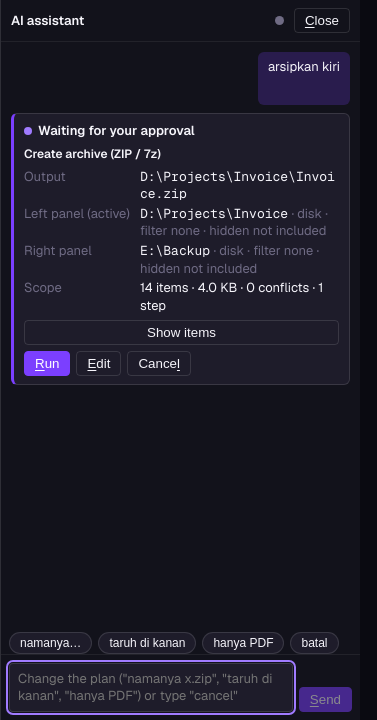
ChatPanel suggestion chips › shows follow-up chips for a ZIP plan awaiting approval and binds them to the plan
Click the button "taruh di kanan". click: (147, 643)
box: [98, 632, 196, 654]
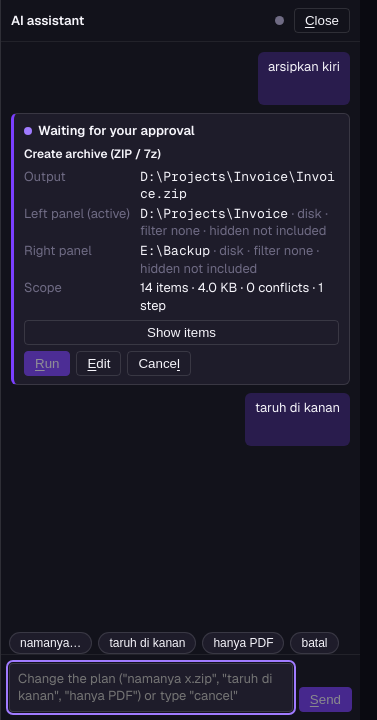
Click the button "namanya…". click: (51, 643)
box: [9, 632, 92, 654]
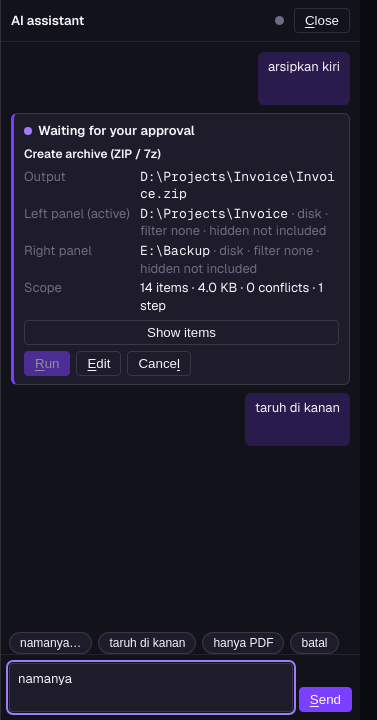
Now the text box named "Message to AI assistant" holds "namanya ", box [9, 663, 293, 712]
